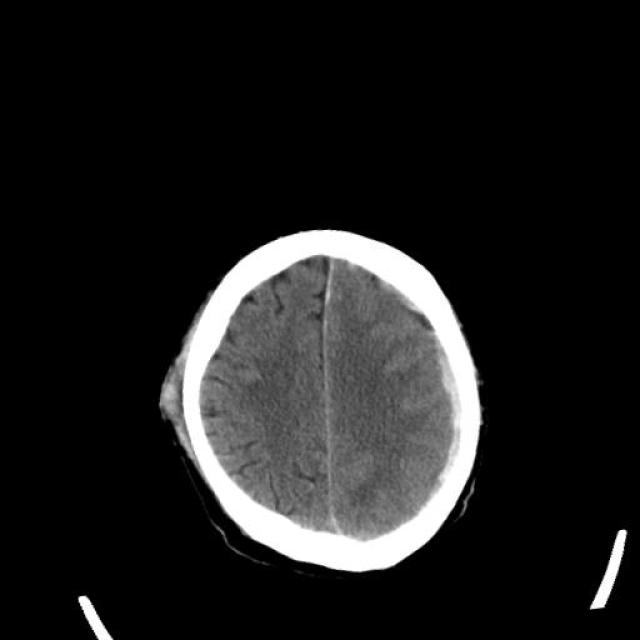Subdural: (380, 262, 492, 513)
